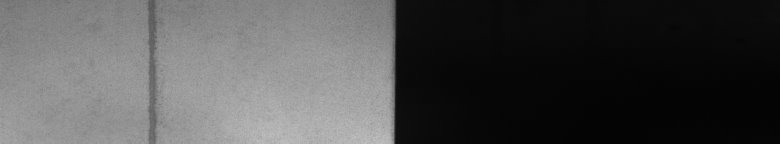hd: (144, 4, 164, 136)
